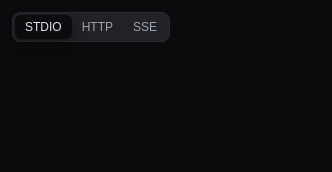
Test case: SegmentedControl › selects on click
Step 1. Click the radio button labelled "HTTP" → (97, 27), box [72, 15, 123, 39]
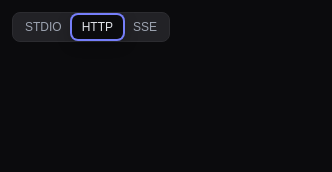
expect the radio button labelled "HTTP" is checked: met, box [72, 15, 123, 39]
expect the radio button labelled "STDIO" is not checked: met, box [15, 15, 72, 39]
